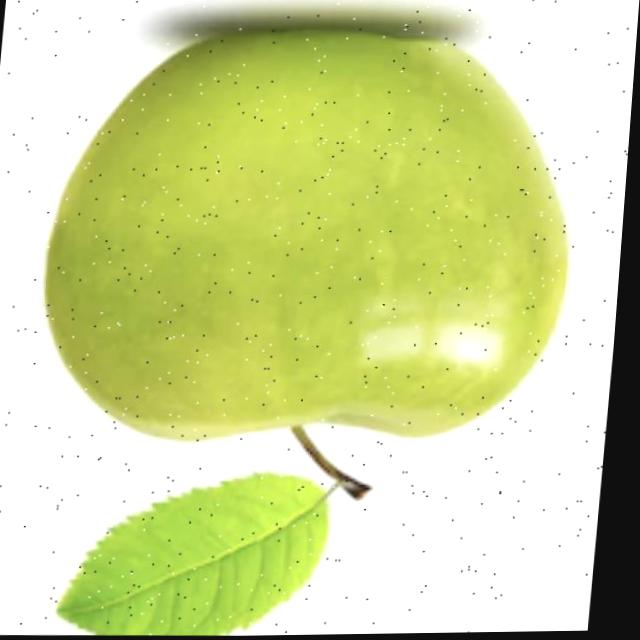Apple: (30, 20, 593, 507)
